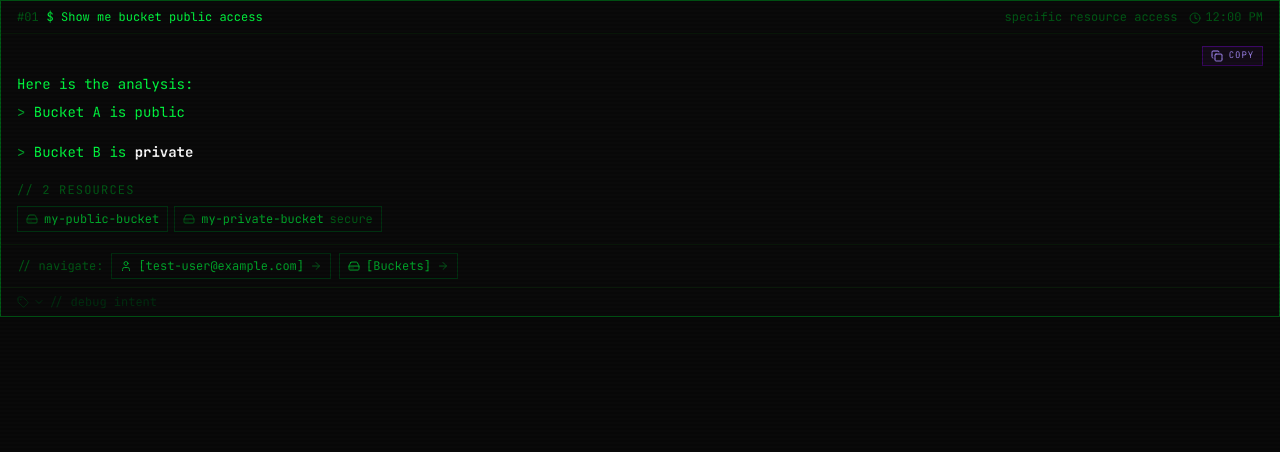
Test: ResultCard › toggles intent debug information
Check: the text "[test-user@example.com]" is shown, box [138,258,304,274]
Click the button "// debug intent" at (87, 302), box [17,294,157,310]
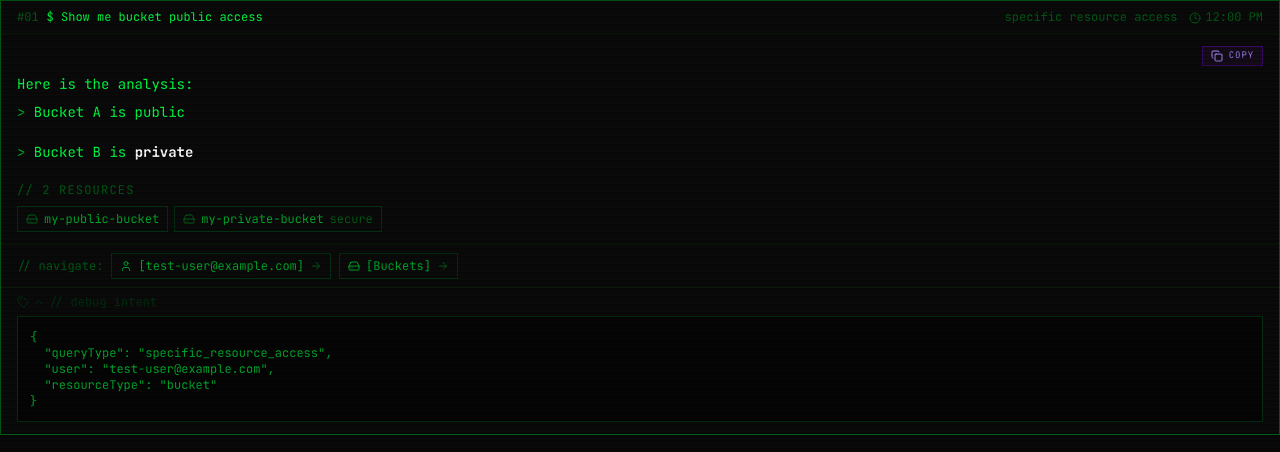
Check: the text "specific_resource_access" is shown, box [30,328,332,408]
